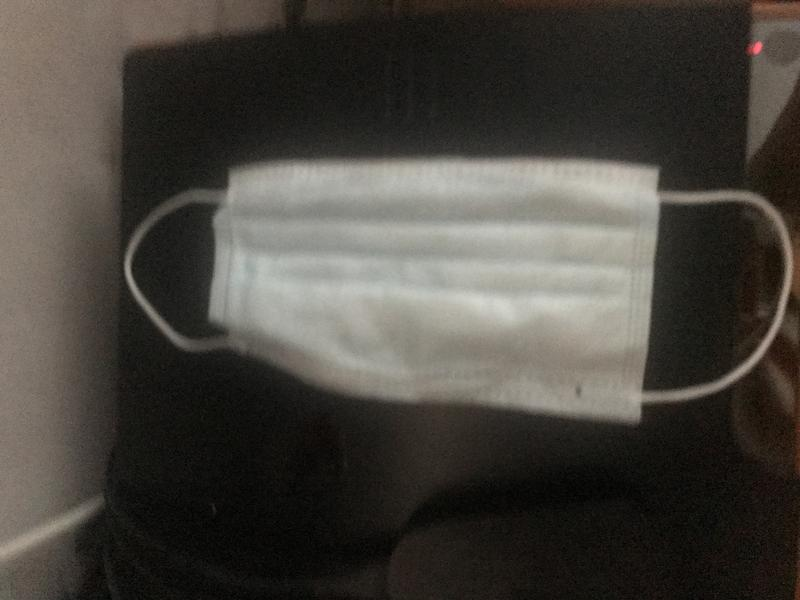medical_mask: (125, 166, 793, 424)
